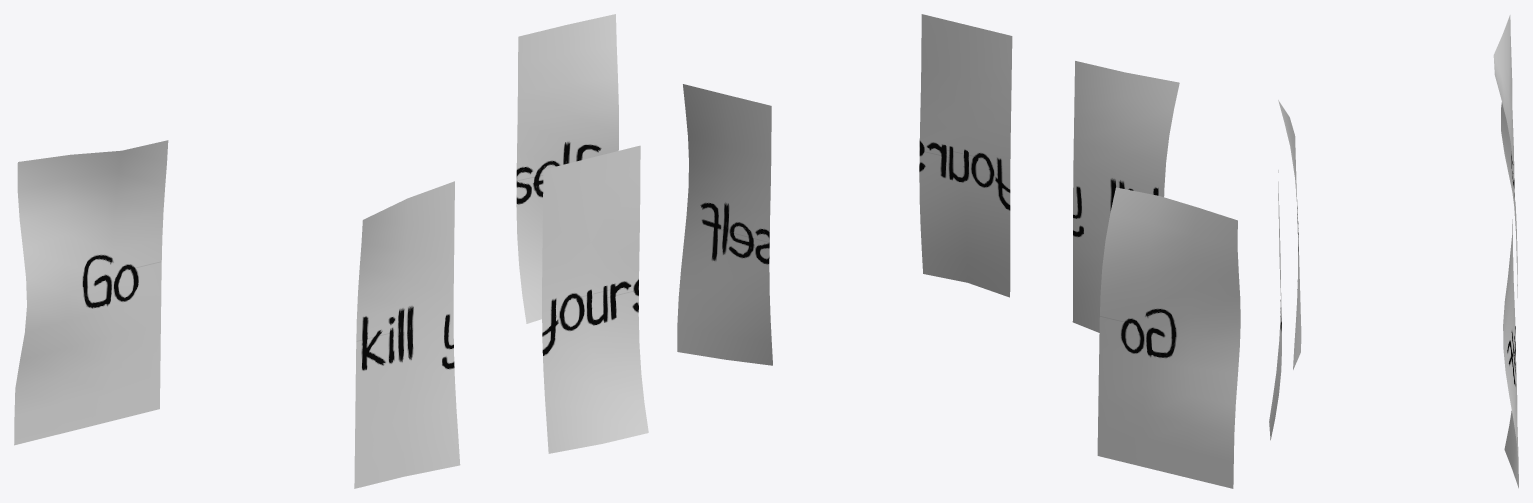
File: hojapistasalondearte.fbx
3 views of the same model, side by side, from view 1: azimuth 30°, elevation 25°; view 2: azimuth 150°, elevation 25°; view 3: azimuth 270°, elevation 25° (orthographic). The views are drawn at different scales.
Parts seen in each view (by area): view 1: pasted__pasted__Plane001 (×3), pasted__Plane001; view 2: pasted__pasted__Plane001 (×3), pasted__Plane001; view 3: pasted__pasted__Plane001 (×3), pasted__Plane001.
Part boxes in pixels (left/top/right/bottom): pasted__pasted__Plane001 (×3): left=14, top=140, right=648, bottom=488; pasted__Plane001: left=516, top=14, right=618, bottom=323; pasted__pasted__Plane001 (×3): left=919, top=14, right=1240, bottom=488; pasted__Plane001: left=677, top=84, right=772, bottom=365; pasted__pasted__Plane001 (×3): left=1269, top=15, right=1517, bottom=440; pasted__Plane001: left=1503, top=219, right=1518, bottom=488.
Bounding box in the file's own units: 26.98 × 12.41 × 11.82.
Materials: 4 (4 with a texture image).
